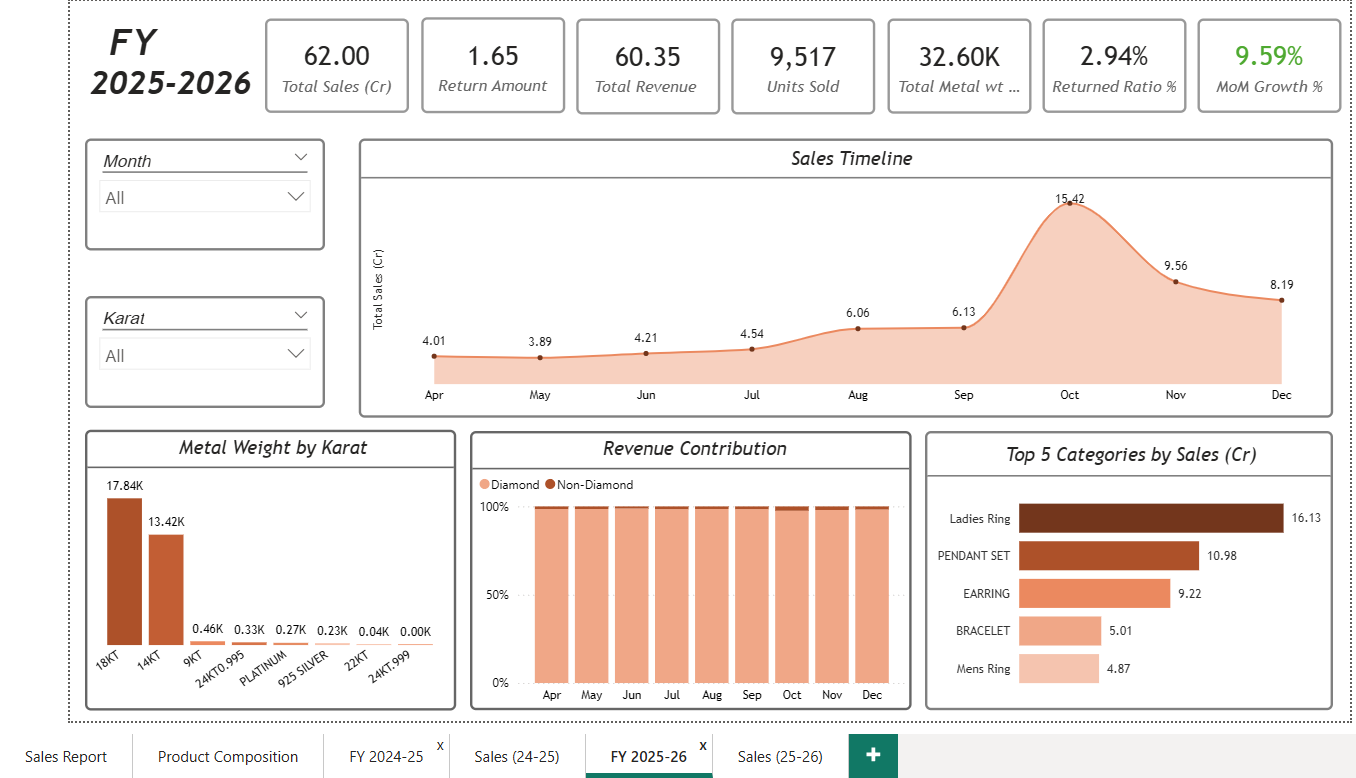

The dashboard page shown, as its layout file describes it:
{"tool":"powerbi","page":{"name":"FY 2025-26","canvas":[1280,720],"ordinal":4},"visuals":[{"type":"textbox","box":[0,5.8,260.9,117.4],"z":0},{"type":"lineChart","title":"Sales Timeline","fields":{"Category":["Date Table.Month"],"Y":["Table1.Scaled Total Revenue"]},"box":[288.3,137.7,974,279.2],"z":1000},{"type":"card","fields":{"Values":["Table1.Scaled Total Revenue"]},"box":[194.5,17.3,144,94.2],"z":2000,"group":"g1"},{"type":"barChart","title":"Top 5 Categories by Sales (Cr)","fields":{"Category":["Table1.Category"],"Y":["Table1.Scaled Total Revenue"]},"box":[854.5,429.9,407.8,279.2],"z":2000},{"type":"columnChart","title":"Metal Weight by Karat","fields":{"Category":["Table1.Karat"],"Y":["Sum(Table1.Net wt)"]},"box":[15.6,428.6,371.4,280.5],"z":3000},{"type":"card","fields":{"Values":["Table1.MoM Growth %"]},"box":[1126.4,17.3,144,94.2],"z":4000,"group":"g1"},{"type":"slicer","fields":{"Values":["Date Table.Month"]},"box":[15.6,137.7,240,112],"z":4000},{"type":"hundredPercentStackedColumnChart","title":"Revenue Contribution ","fields":{"Category":["Date Table.Month"],"Series":["Table1.Diamond Presence"],"Y":["Table1.Scaled Total Revenue"]},"box":[400,429.9,441.6,279.2],"z":5000},{"type":"card","fields":{"Values":["Table1.Units Sold"]},"box":[660.7,17.3,144,95.7],"z":6000,"group":"g1"},{"type":"slicer","fields":{"Values":["Table1.Karat"]},"box":[15.6,294.8,240,112],"z":6000},{"type":"group","id":"g1","title":"Group 1","box":[194.5,15.9,1075.9,97.1],"z":7000},{"type":"card","fields":{"Values":["Sum(Table1.Net wt)"]},"box":[816.6,17.4,144,95],"z":8000,"group":"g1"},{"type":"card","fields":{"Values":["Sales.Scaled Return amount"]},"box":[350.4,15.9,144,95.7],"z":11000,"group":"g1"},{"type":"card","fields":{"Values":["Sales.Total Revenue"]},"box":[506.3,17.3,144,95.7],"z":12000,"group":"g1"},{"type":"card","fields":{"Values":["Sales.Returned Ratio %"]},"box":[971.9,17.3,144,94.2],"z":13000,"group":"g1"}]}

Visuals, with their boxes on the page's 1280x720 design canvas (x1, y1, x2, y2). These are canvas units, not pixel positions in the 1356x778 screenshot, which may show the page scaled, cropped or inside an application window:
textbox: (x1=0, y1=6, x2=261, y2=123)
"Sales Timeline" lineChart: (x1=288, y1=138, x2=1262, y2=417)
card - Table1.Scaled Total Revenue: (x1=194, y1=17, x2=338, y2=112)
"Top 5 Categories by Sales (Cr)" barChart: (x1=854, y1=430, x2=1262, y2=709)
"Metal Weight by Karat" columnChart: (x1=16, y1=429, x2=387, y2=709)
card - Table1.MoM Growth %: (x1=1126, y1=17, x2=1270, y2=112)
slicer - Date Table.Month: (x1=16, y1=138, x2=256, y2=250)
"Revenue Contribution " hundredPercentStackedColumnChart: (x1=400, y1=430, x2=842, y2=709)
card - Table1.Units Sold: (x1=661, y1=17, x2=805, y2=113)
slicer - Table1.Karat: (x1=16, y1=295, x2=256, y2=407)
"Group 1" group: (x1=194, y1=16, x2=1270, y2=113)
card - Sum(Table1.Net wt): (x1=817, y1=17, x2=961, y2=112)
card - Sales.Scaled Return amount: (x1=350, y1=16, x2=494, y2=112)
card - Sales.Total Revenue: (x1=506, y1=17, x2=650, y2=113)
card - Sales.Returned Ratio %: (x1=972, y1=17, x2=1116, y2=112)
